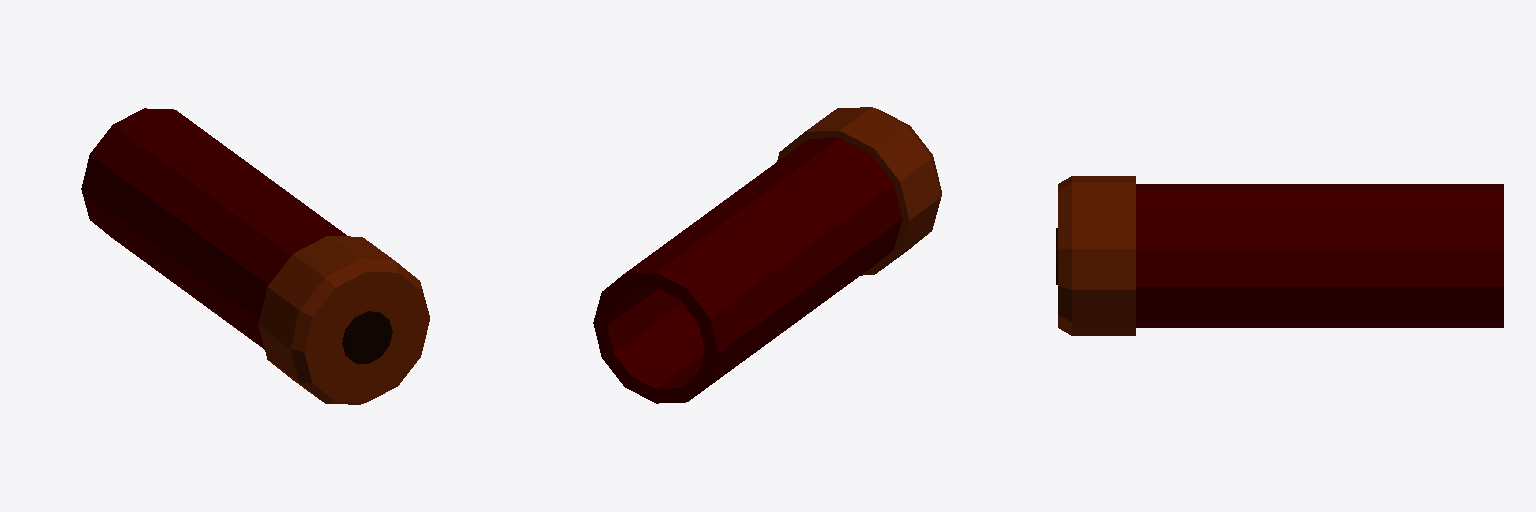
File: SlightCherry_Shotgun_shell.obj
3 renders of one model, left to right at view 1: azimuth 30°, elevation 25°; view 2: azimuth 150°, elevation 25°; view 3: azimuth 270°, elevation 25°, orthographic.
Parts seen in each view (by area): view 1: Cylinder; view 2: Cylinder; view 3: Cylinder.
Part boxes in pixels (x1,y1,x2,y2): Cylinder: (81,108,429,404); Cylinder: (593,107,941,403); Cylinder: (1056,176,1503,335).
Size of the model in its own units: 2.5 by 2.5 by 6.97.